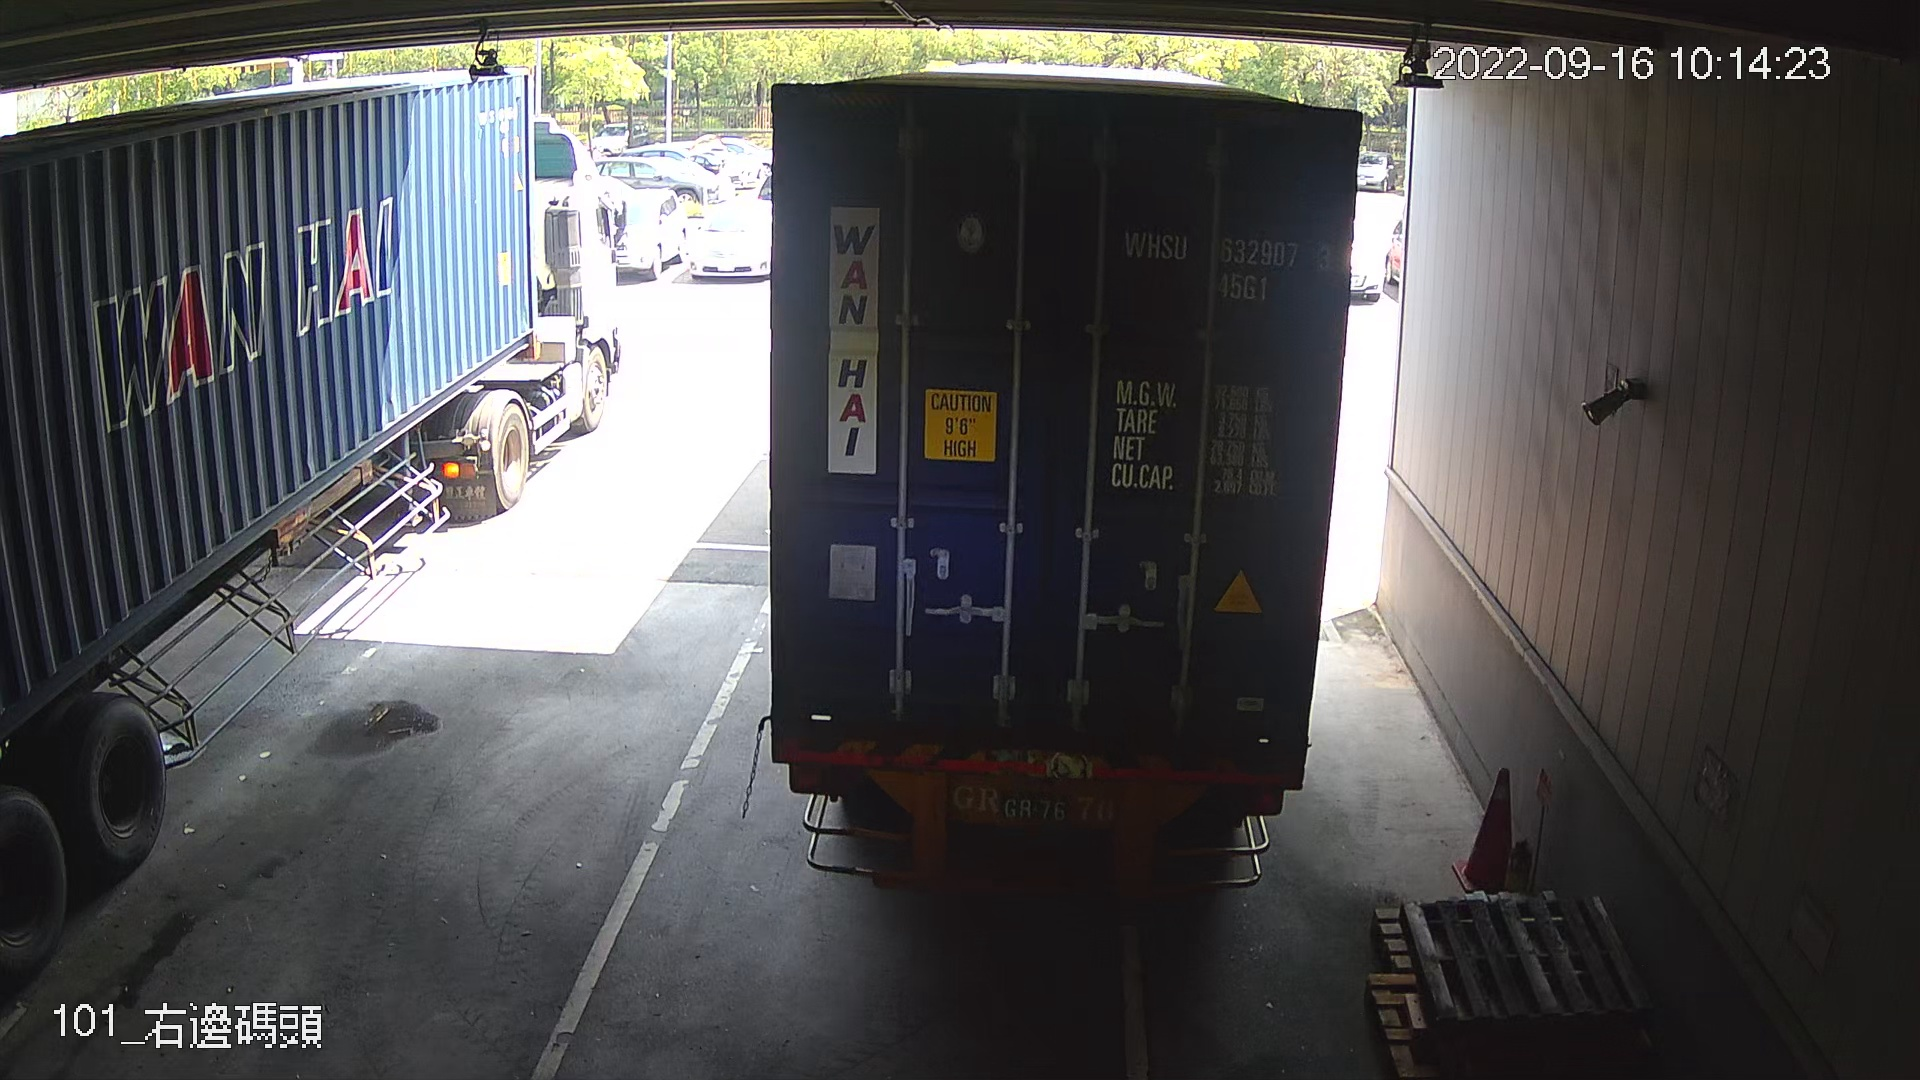container: (1116, 218, 1341, 313)
